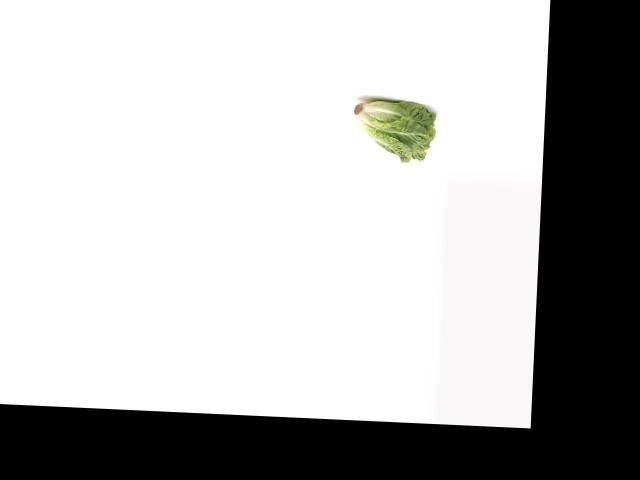lettuce: (347, 96, 436, 164)
